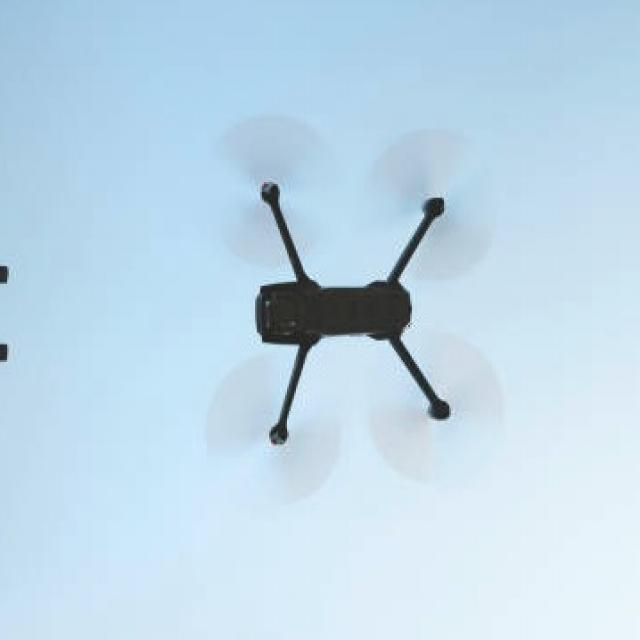drone: (170, 96, 538, 496)
